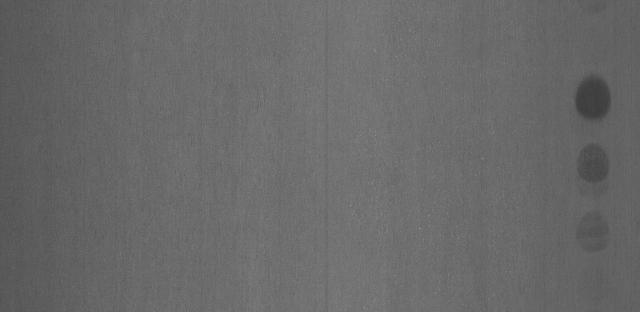oil_spot: (570, 62, 618, 126), (573, 140, 616, 200), (573, 212, 615, 257)
